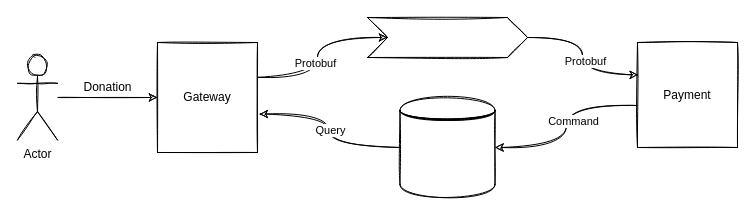
Some shapes in this 755 by 215 pixel diagram are drawn without their labels. The shapes that lost their labels are listed below. From the top down, each one's centre as x and y in pixels, then its label:
At pixel 447 37: "Kafka".
At pixel 447 147: "MongoDB".
